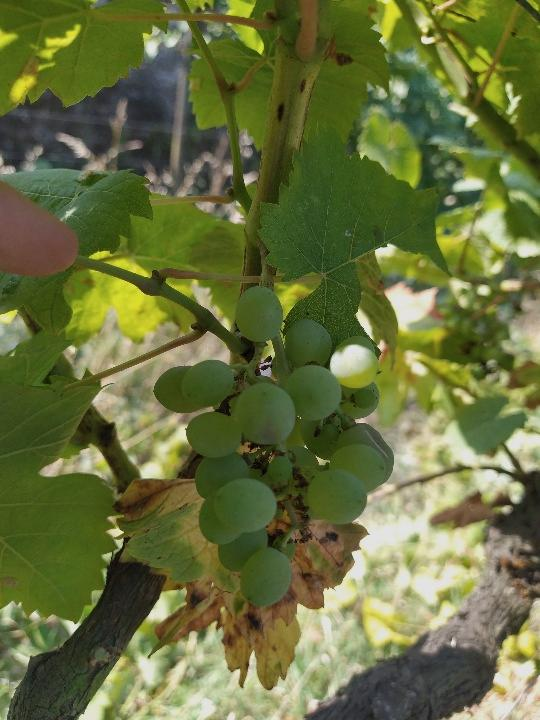grape: (150, 281, 398, 613)
